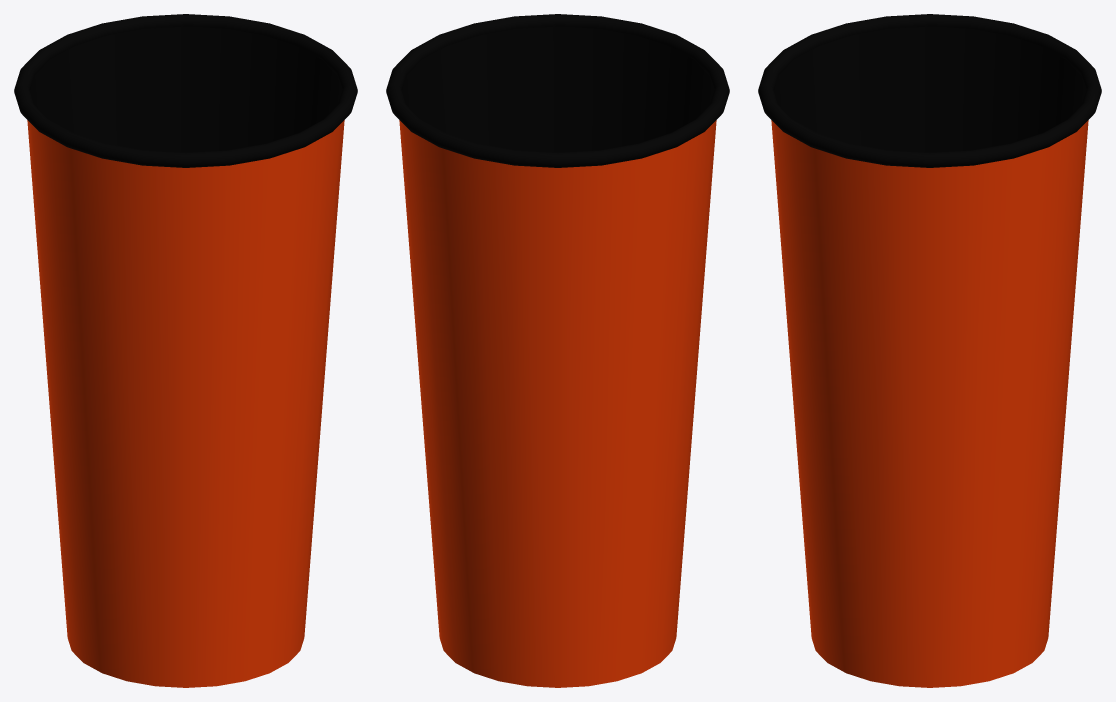
Rendered from cup_02_origin_gt_7.dae.
The picture shows the model from 3 angles, left to right: view 1: azimuth 30°, elevation 25°; view 2: azimuth 150°, elevation 25°; view 3: azimuth 270°, elevation 25°; orthographic projection.
Parts seen in each view (by area): view 1: group_0 (×3); view 2: group_0 (×3); view 3: group_0 (×3).
Part boxes in pixels (bbox=[...]): group_0 (×3): bbox=[14, 14, 357, 687]; group_0 (×3): bbox=[386, 14, 729, 687]; group_0 (×3): bbox=[758, 14, 1101, 687].
Bounding box in the file's own units: 3.54 × 3.54 × 6.3.
